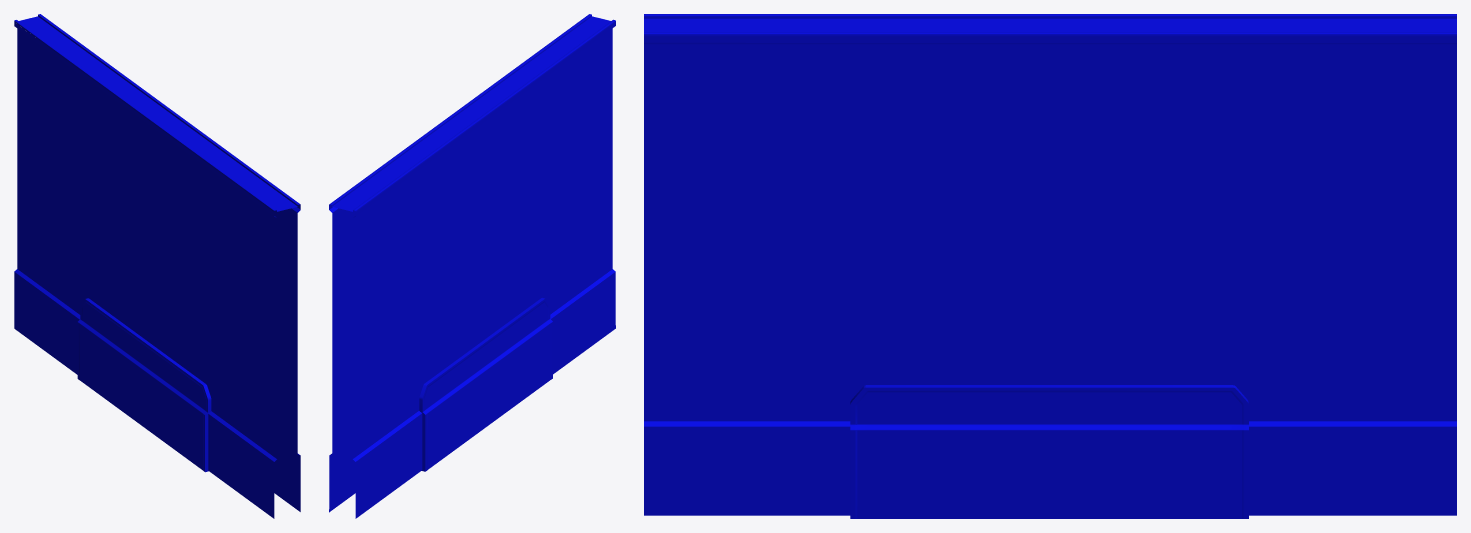
Rendered from Wall_Standard.FBX.
3 renders of one model, left to right at view 1: azimuth 30°, elevation 25°; view 2: azimuth 150°, elevation 25°; view 3: azimuth 270°, elevation 25°, orthographic. The views are drawn at different scales.
Parts seen in each view (by area): view 1: Wall_Standard; view 2: Wall_Standard; view 3: Wall_Standard.
Boxes of the visible parts, bbox=[...] form: Wall_Standard: bbox=[14, 14, 300, 518]; Wall_Standard: bbox=[329, 14, 615, 518]; Wall_Standard: bbox=[644, 14, 1456, 518].
Bounding box in the file's own units: 14.31 × 129 × 197.
